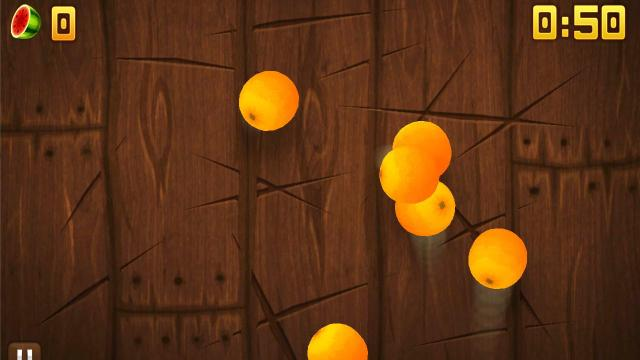fruit: (467, 227, 529, 289), (238, 70, 300, 131), (381, 142, 442, 204), (392, 118, 452, 180), (396, 179, 456, 236), (306, 322, 368, 358)
ignore: (10, 3, 42, 41)
